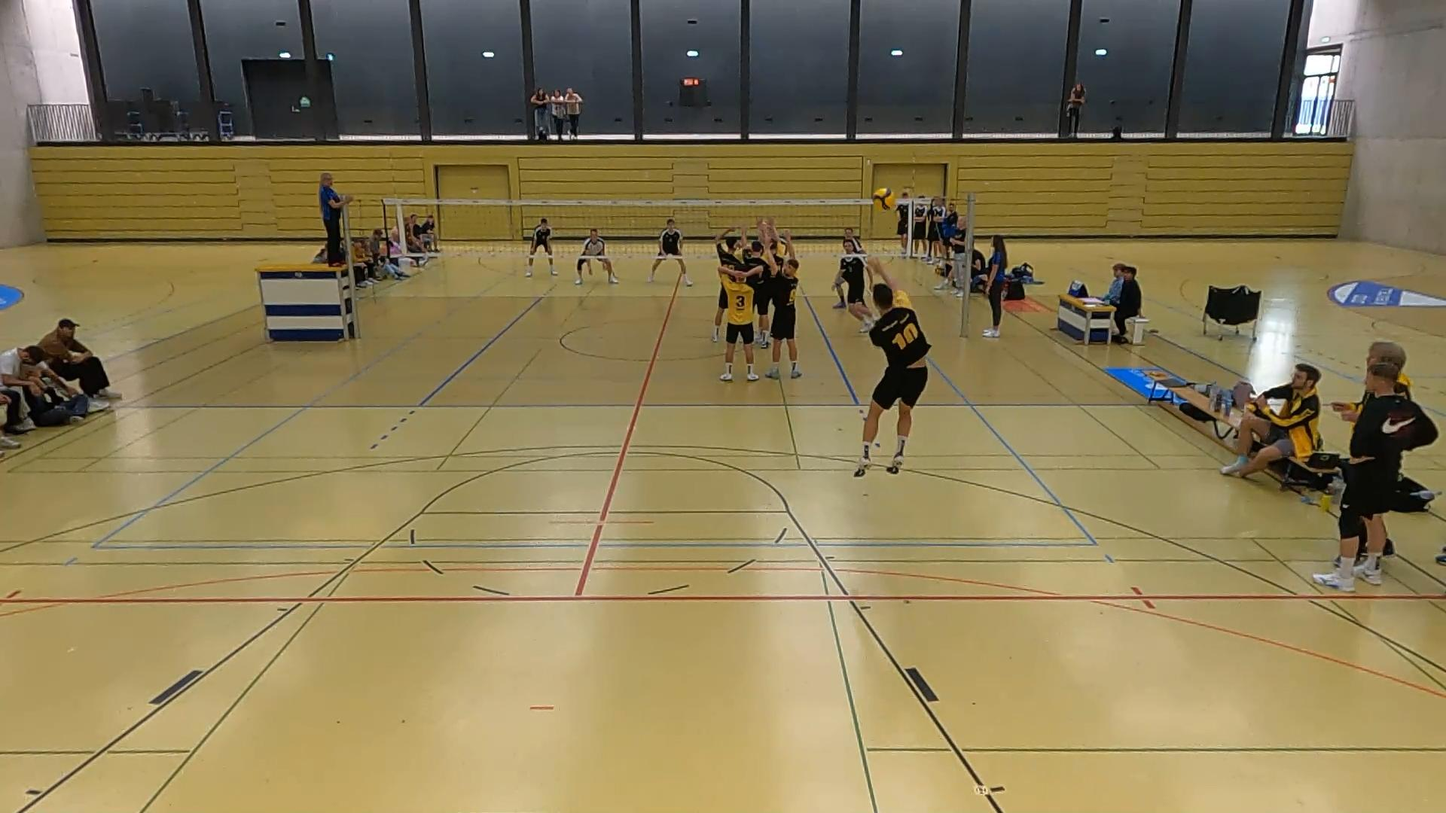battuta: (844, 257, 944, 480)
